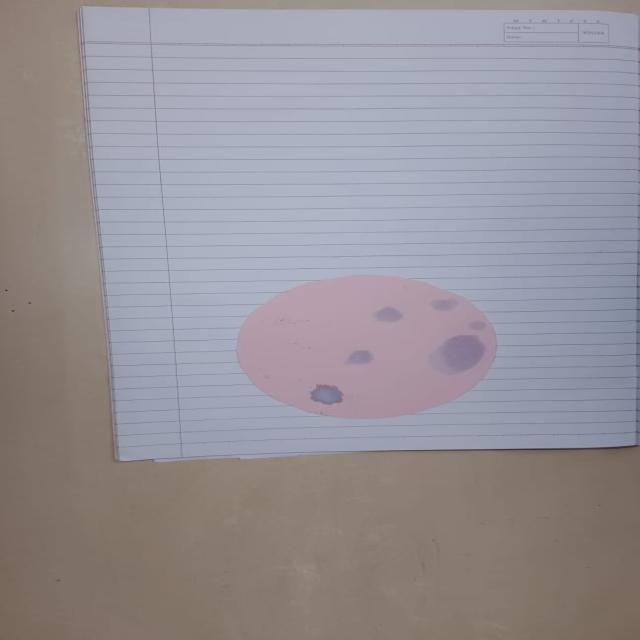BlueColor: (431, 334, 487, 375), (310, 384, 342, 405), (345, 350, 373, 365), (374, 307, 402, 322), (431, 298, 457, 311), (467, 320, 491, 332)
